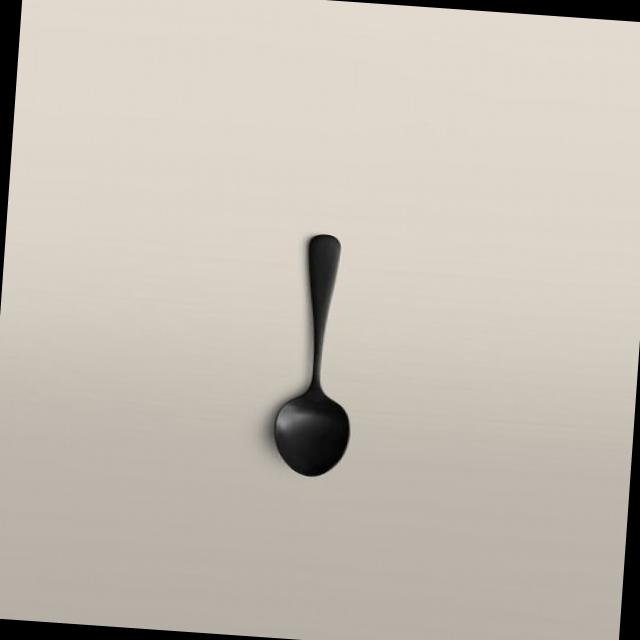spoon: (250, 203, 389, 493)
